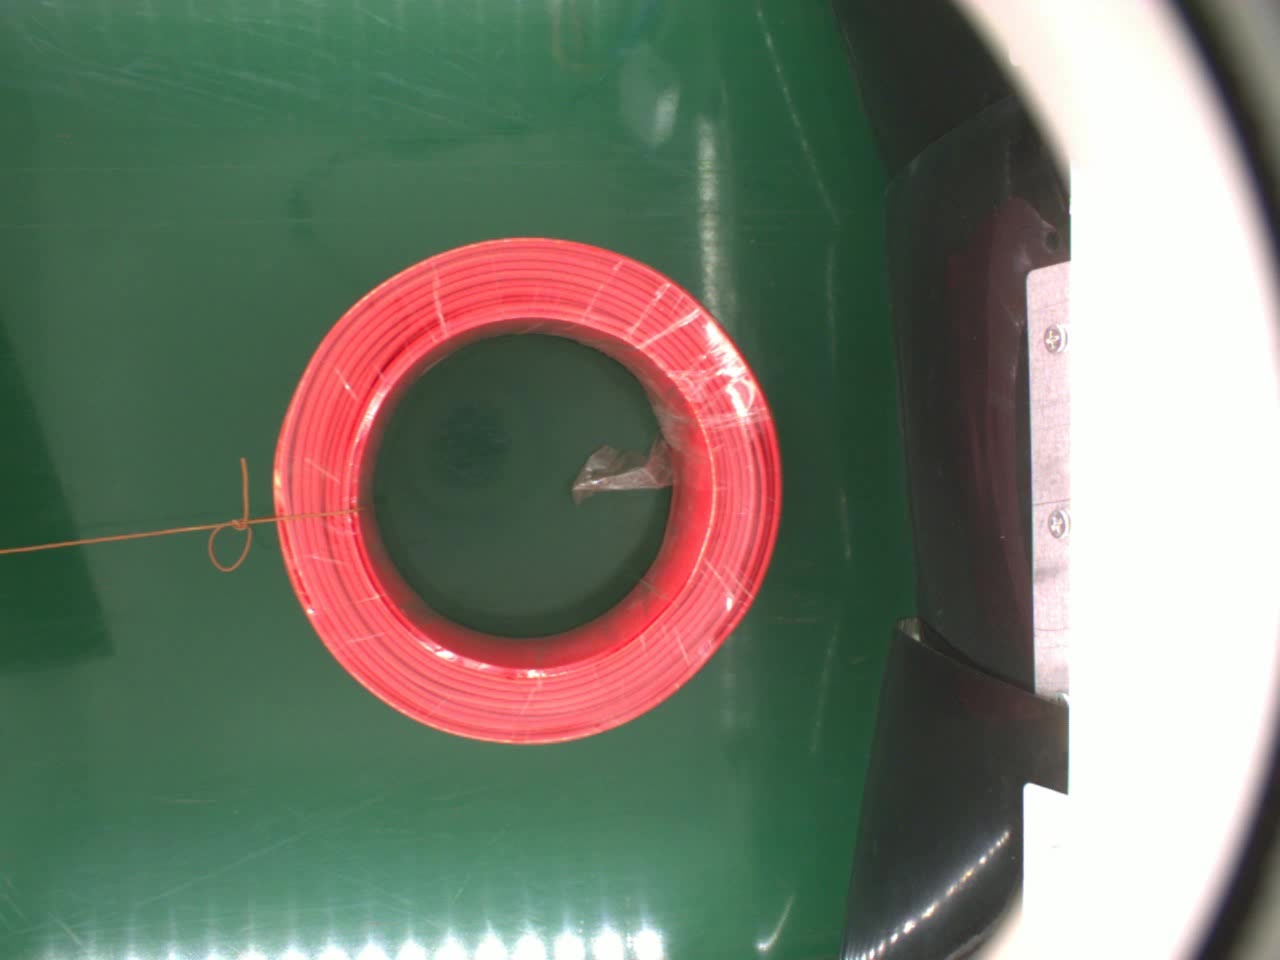red: (273, 232, 782, 745)
